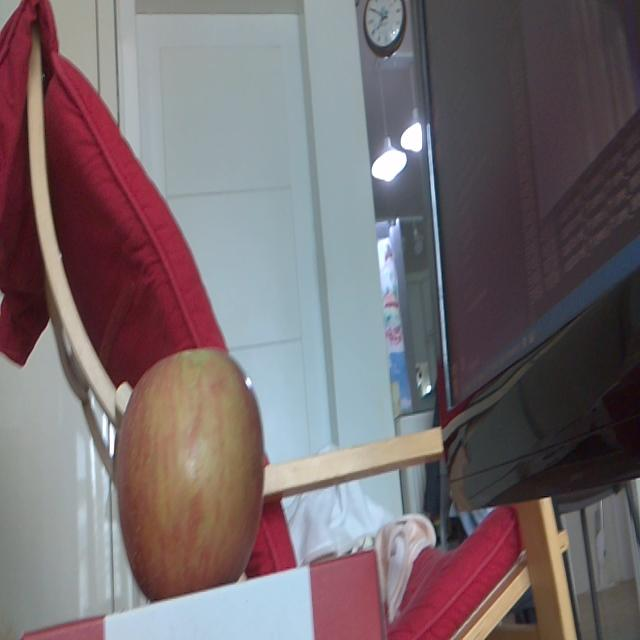apple: (119, 348, 267, 602)
